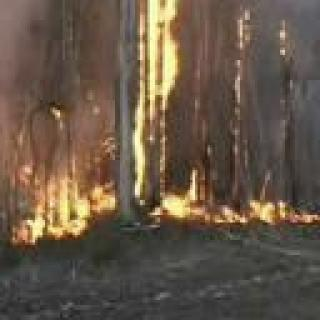fire: (143, 0, 200, 227), (7, 158, 114, 252), (228, 3, 266, 179), (225, 196, 314, 228)
